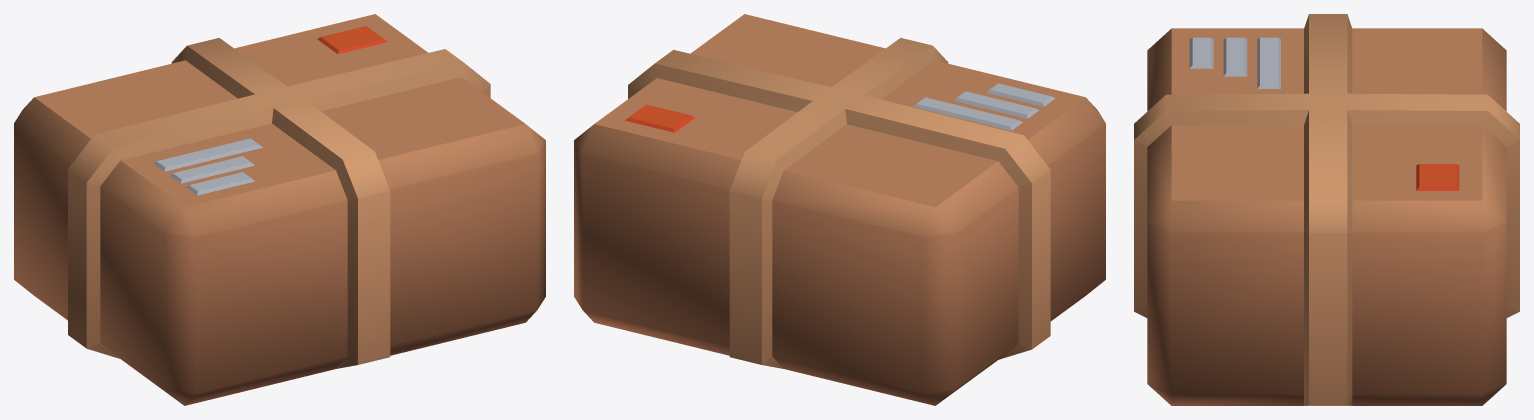
Rendered from Package.glb.
3 views of the same model, side by side, from view 1: azimuth 30°, elevation 25°; view 2: azimuth 150°, elevation 25°; view 3: azimuth 270°, elevation 25° (orthographic). The views are drawn at different scales.
Visible parts, largest first — view 1: package; view 2: package; view 3: package.
Boxes of the visible parts, x1,y1,x2,y2 form: package: (14, 14, 545, 405); package: (574, 14, 1105, 405); package: (1134, 14, 1519, 405).
Bounding box in the file's own units: 1 × 0.5 × 0.8.
Materials: 1 (1 with a texture image).
